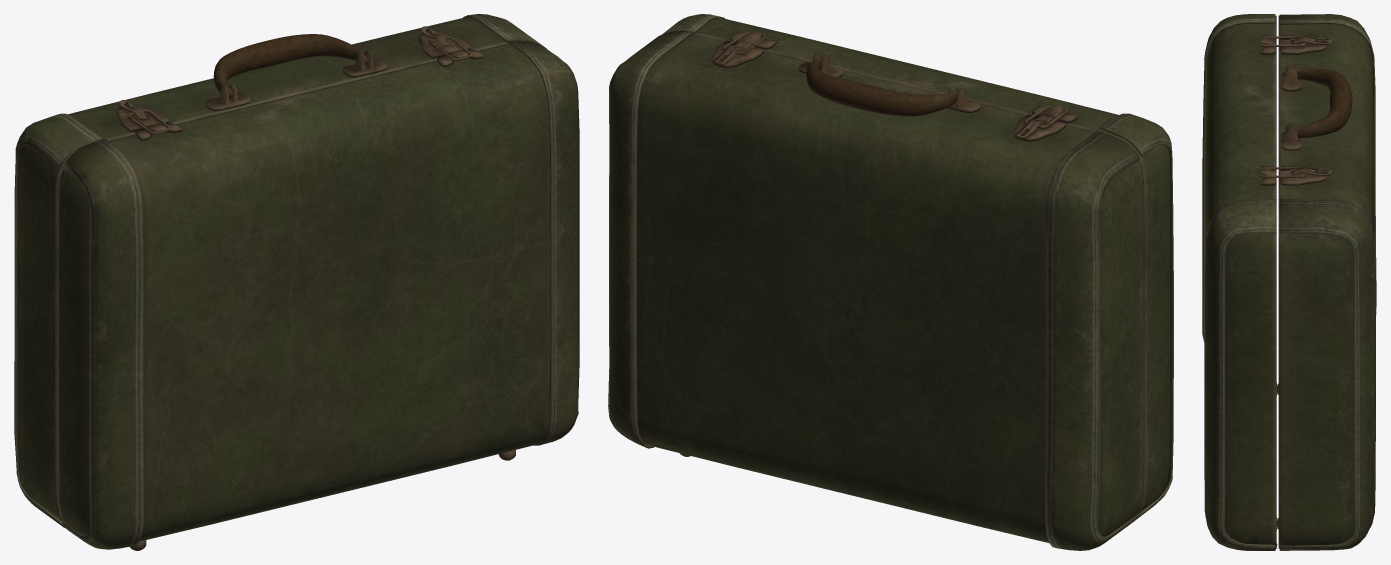
File: luggage-vintage.glb
3 renders of one model, left to right at view 1: azimuth 30°, elevation 25°; view 2: azimuth 150°, elevation 25°; view 3: azimuth 270°, elevation 25°, orthographic. The views are drawn at different scales.
Parts seen in each view (by area): view 1: luggage-vintage-suitcase Static Batch; view 2: luggage-vintage-suitcase Static Batch; view 3: luggage-vintage-suitcase Static Batch.
Boxes of the visible parts, x1=… form: luggage-vintage-suitcase Static Batch: x1=14, y1=14, x2=579, y2=550; luggage-vintage-suitcase Static Batch: x1=608, y1=14, x2=1173, y2=550; luggage-vintage-suitcase Static Batch: x1=1202, y1=14, x2=1376, y2=550.
Bounding box in the file's own units: 1.22 × 1 × 0.4212.
1 material, 1 textured.
